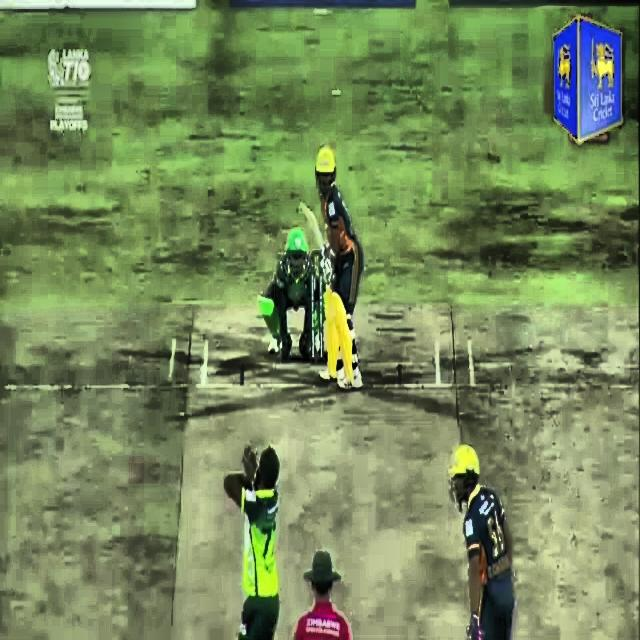Left-stump: (311, 261, 315, 363)
Middle-stump: (320, 268, 322, 363)
